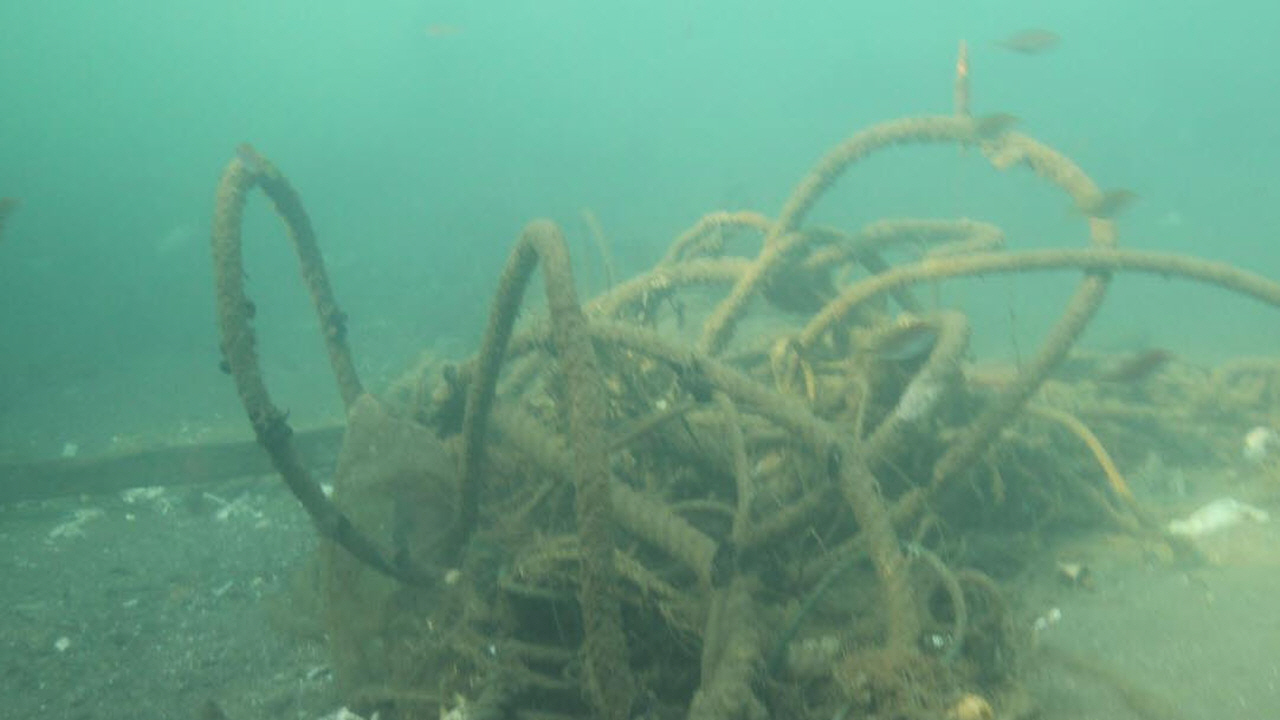bundle of ropes: (203, 103, 1280, 720)
